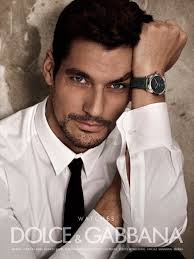F_shirt: (1, 96, 190, 254)
F_tie: (59, 146, 89, 232)
